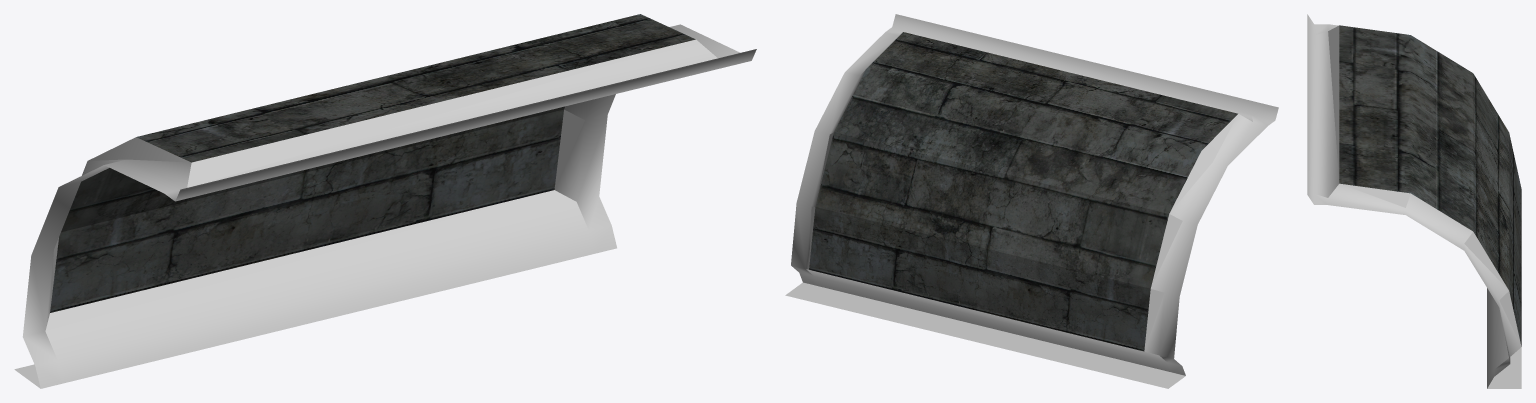
The model's file is concave_flat.dae.
3 views of the same model, side by side, from view 1: azimuth 30°, elevation 25°; view 2: azimuth 150°, elevation 25°; view 3: azimuth 270°, elevation 25° (orthographic). The views are drawn at different scales.
Visible parts, largest first — view 1: polySurface1, polySurface10; view 2: polySurface10, polySurface1; view 3: polySurface10, polySurface1.
Boxes of the visible parts, box(x1,y1,x2,y2) form: polySurface1: box(14, 24, 756, 388); polySurface10: box(50, 14, 695, 312); polySurface10: box(809, 32, 1237, 351); polySurface1: box(785, 14, 1278, 388); polySurface10: box(1339, 25, 1521, 346); polySurface1: box(1307, 14, 1521, 388).
Size of the model in its own units: 4 by 2 by 2.
